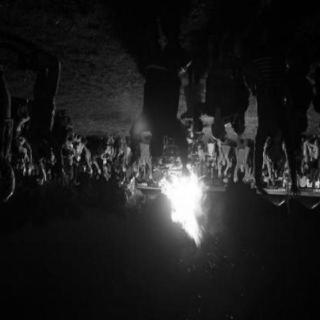Fire: (148, 152, 228, 266)
